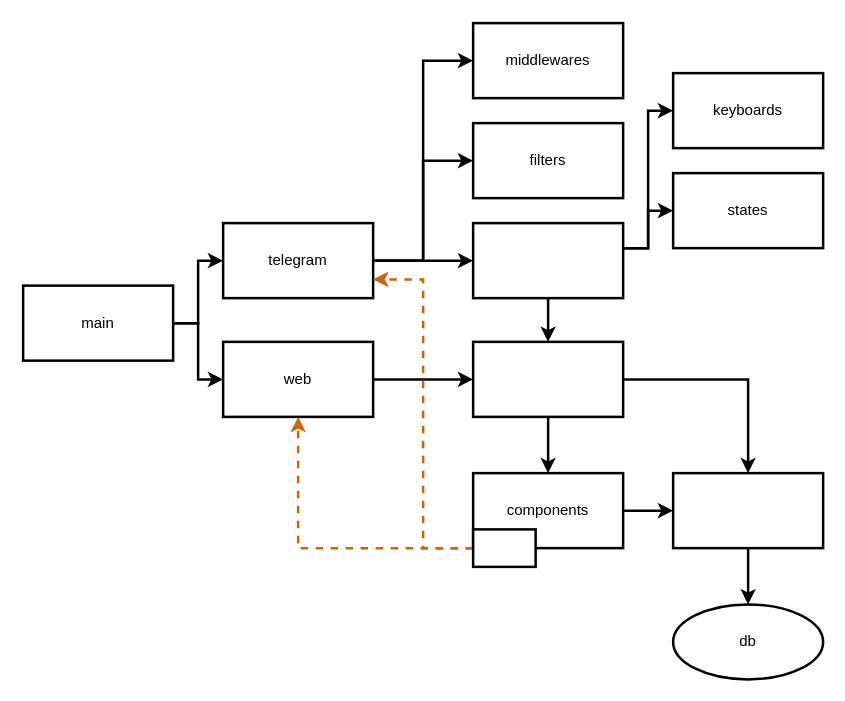
This 845x701 diagram has some shape labels left out. Here are the shapes that lost their labels. From the top down, the centre of each, then its label:
At (x=547, y=260): "handlers".
At (x=547, y=379): "services".
At (x=747, y=510): "models".
At (x=503, y=548): "Account".
